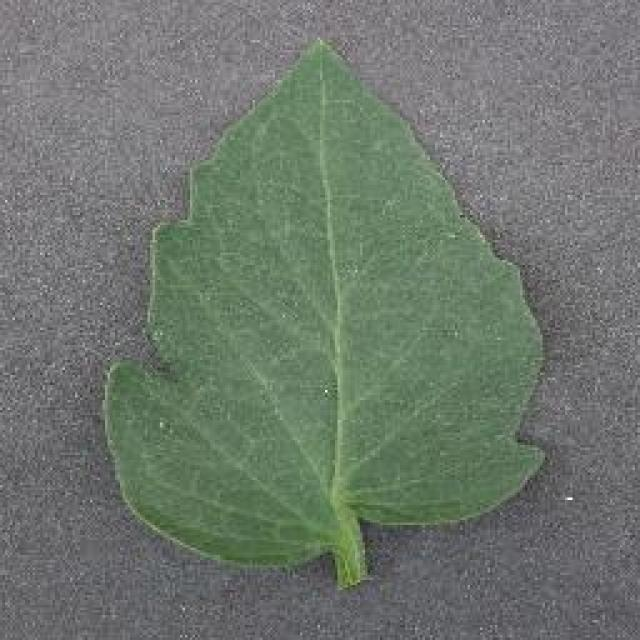healthy: (102, 38, 551, 587)
